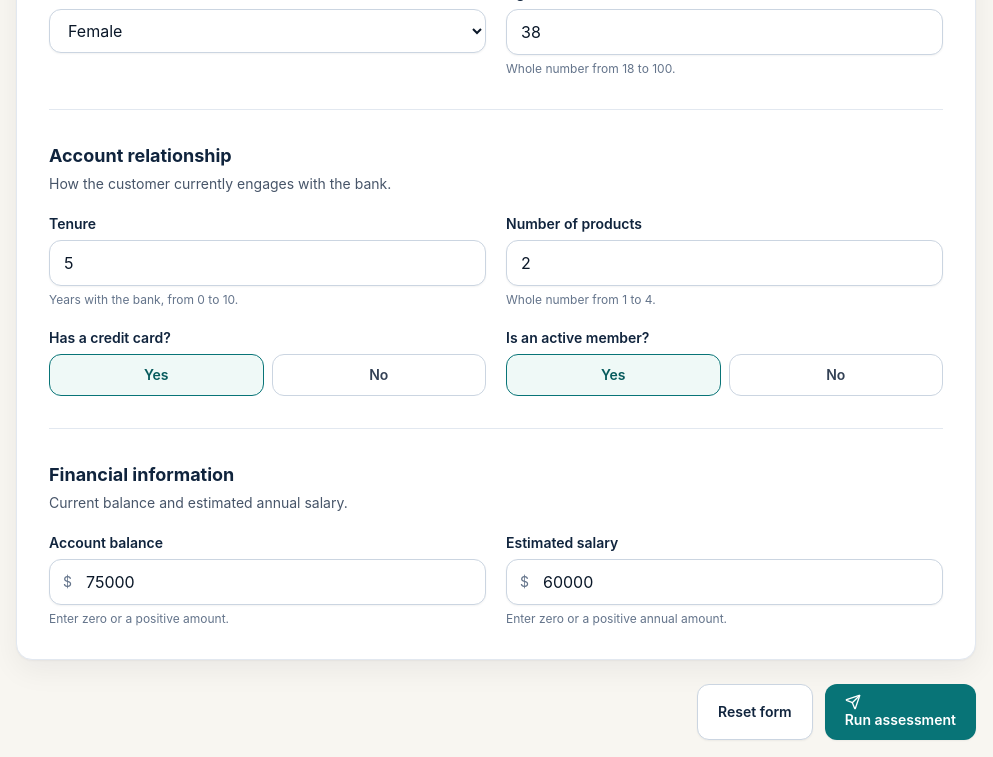
Test: single prediction page › keeps the result usable when probability is null
This screenshot has width=993, height=757.
(page scrolled)
Click the button "Run assessment".
click(900, 712)  # box [825,684,976,740]
(page scrolled)
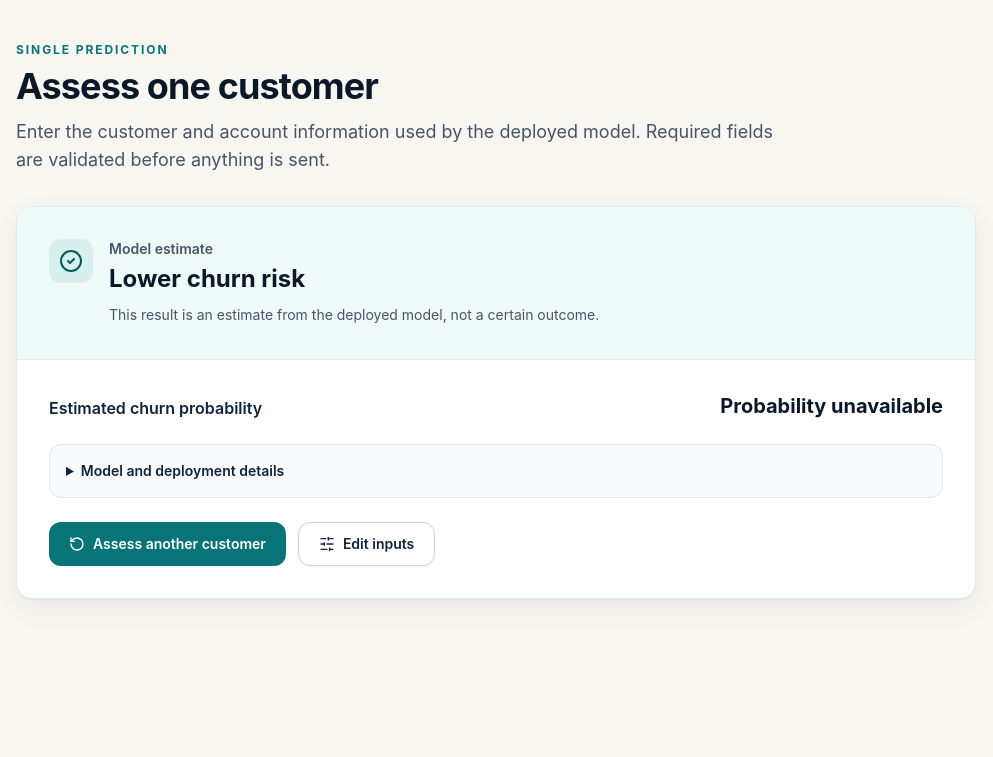
Expected: the heading "Lower churn risk" is shown, [109,264,305,293]
Expected: the text "Probability unavailable" is shown, [720,392,943,420]
